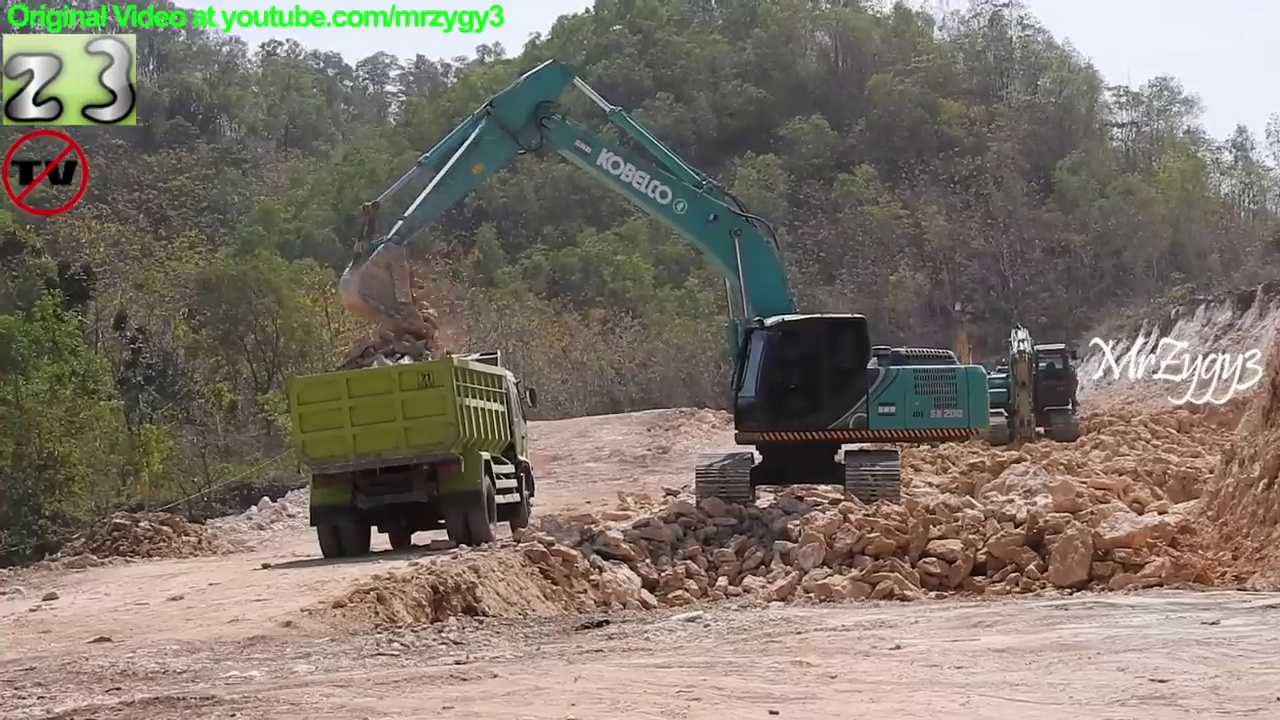excavator: (330, 52, 998, 517), (917, 302, 1003, 428)
excavator breaker: (964, 314, 1089, 458)
truck: (284, 344, 547, 565)
